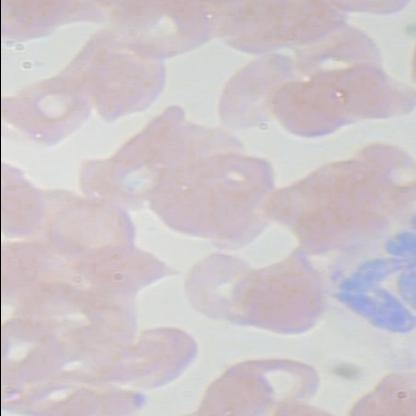RBC: (146, 155, 258, 238), (236, 248, 328, 344), (214, 52, 309, 138), (42, 194, 149, 270), (101, 0, 209, 69), (258, 165, 364, 235), (100, 322, 204, 392), (74, 234, 178, 304), (214, 350, 324, 416), (180, 248, 268, 328), (11, 73, 102, 145), (327, 58, 415, 125), (268, 76, 358, 140), (0, 315, 74, 391), (1, 94, 68, 159)
WBC: (320, 178, 415, 376)
